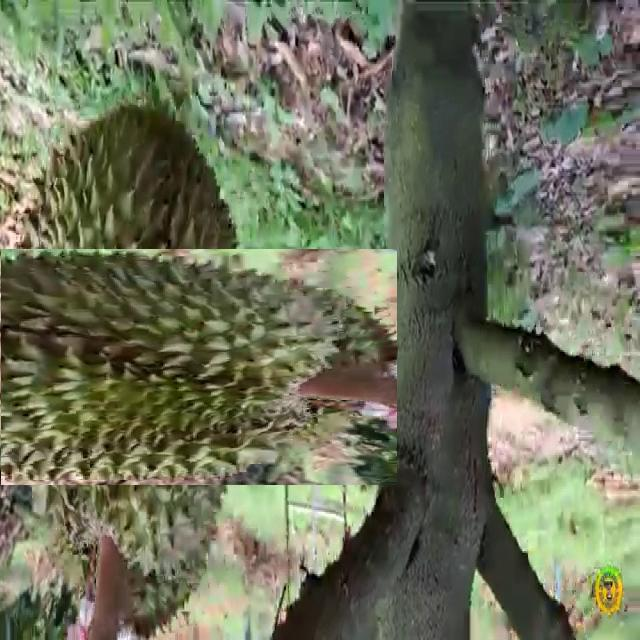durian: (0, 175, 323, 560)
